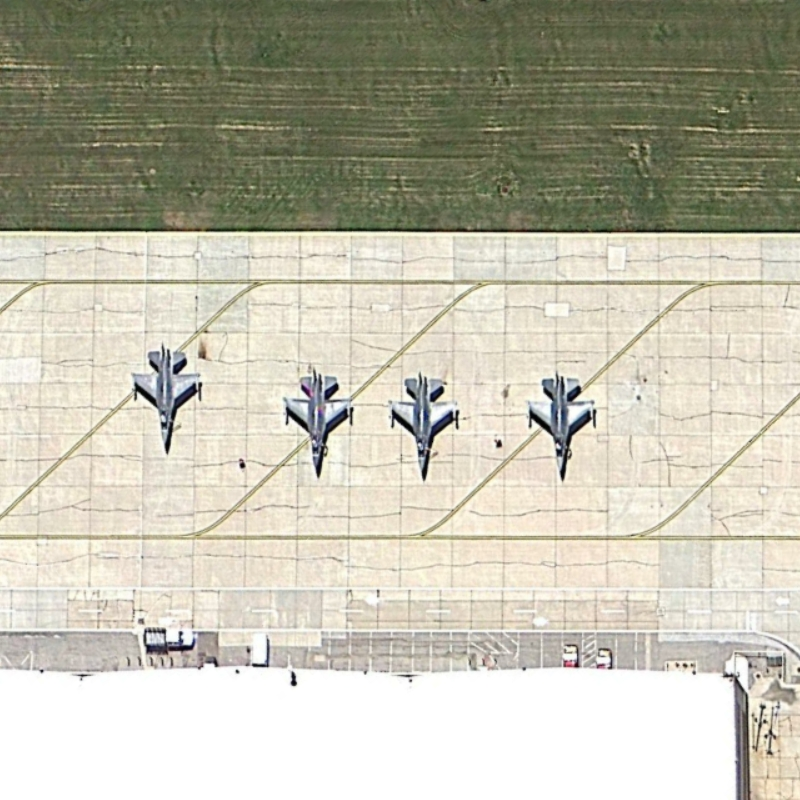A5: (120, 333, 211, 459), (381, 364, 473, 488), (519, 364, 604, 482), (275, 361, 359, 479)
